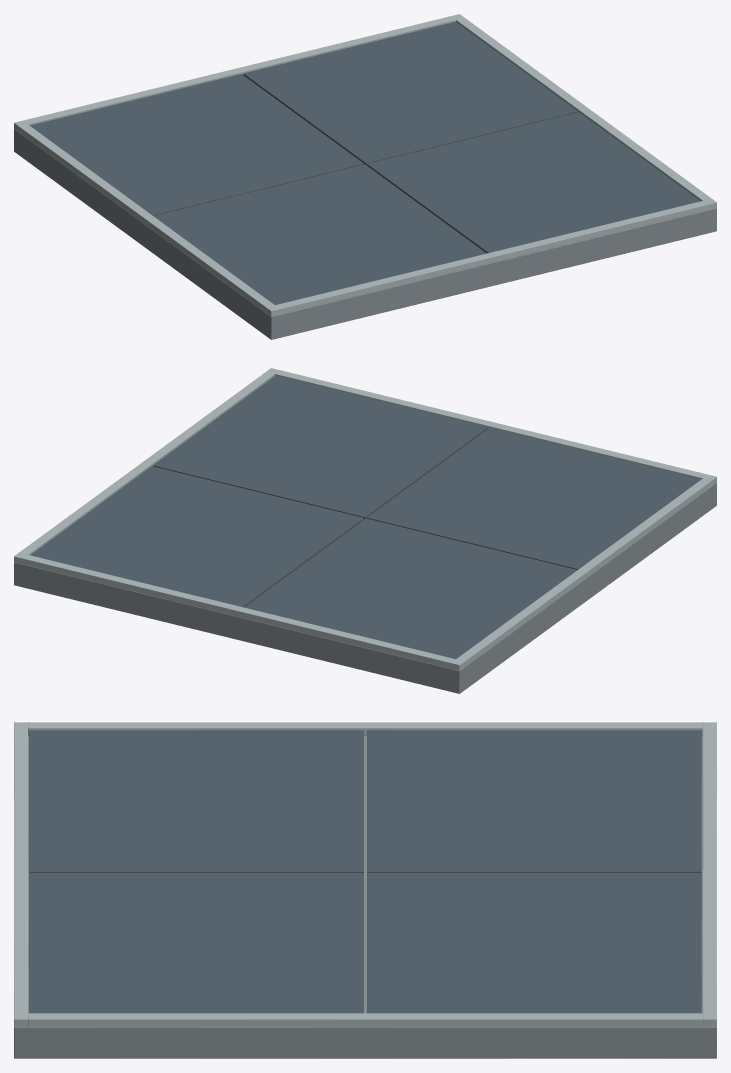
3 views of the same model, one above another, from view 1: azimuth 30°, elevation 25°; view 2: azimuth 150°, elevation 25°; view 3: azimuth 270°, elevation 25° (orthographic). The views are drawn at different scales.
Parts seen in each view (by area): view 1: SM_NPP_Roof_4x4_A; view 2: SM_NPP_Roof_4x4_A; view 3: SM_NPP_Roof_4x4_A.
Boxes of the visible parts, x1,y1,x2,y2 form: SM_NPP_Roof_4x4_A: [14, 14, 716, 339]; SM_NPP_Roof_4x4_A: [14, 368, 716, 693]; SM_NPP_Roof_4x4_A: [14, 722, 716, 1058].
Bounding box in the file's own units: 4 × 0.25 × 4.
